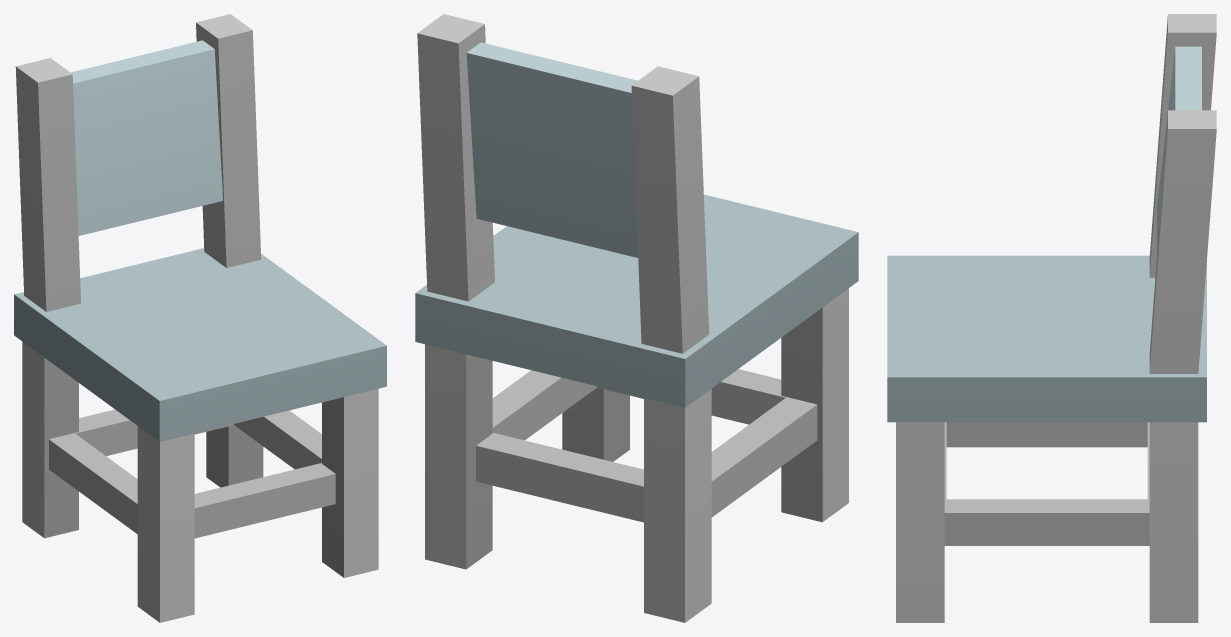
Rendered from chair1.glb.
The picture shows the model from 3 angles, left to right: view 1: azimuth 30°, elevation 25°; view 2: azimuth 150°, elevation 25°; view 3: azimuth 270°, elevation 25°; orthographic projection. The views are drawn at different scales.
Parts seen in each view (by area): view 1: Chair1; view 2: Chair1; view 3: Chair1.
Part boxes in pixels (x1,y1,x2,y2): Chair1: (14, 14, 386, 622); Chair1: (415, 14, 858, 622); Chair1: (887, 14, 1216, 622).
Size of the model in its own units: 0.45 by 0.85 by 0.5152.
1 material, 1 textured.
